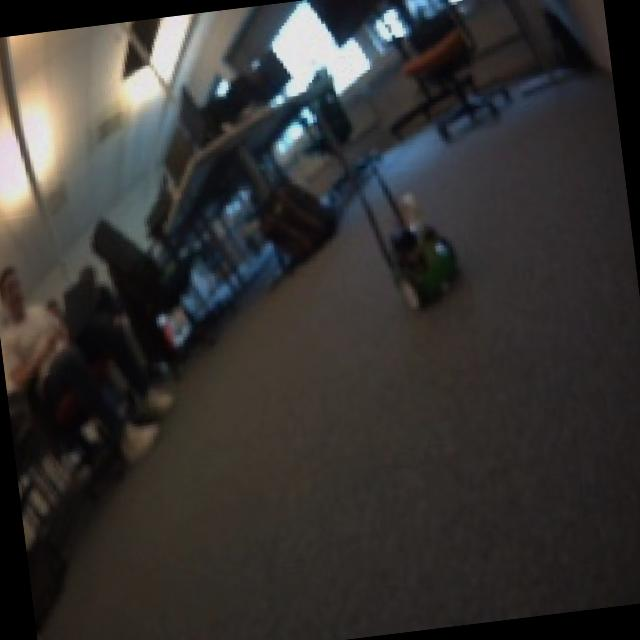robot: (380, 217, 465, 314)
